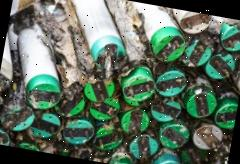lightbulb: (0, 0, 240, 164), (47, 0, 137, 80), (115, 0, 190, 64), (167, 8, 212, 36)
